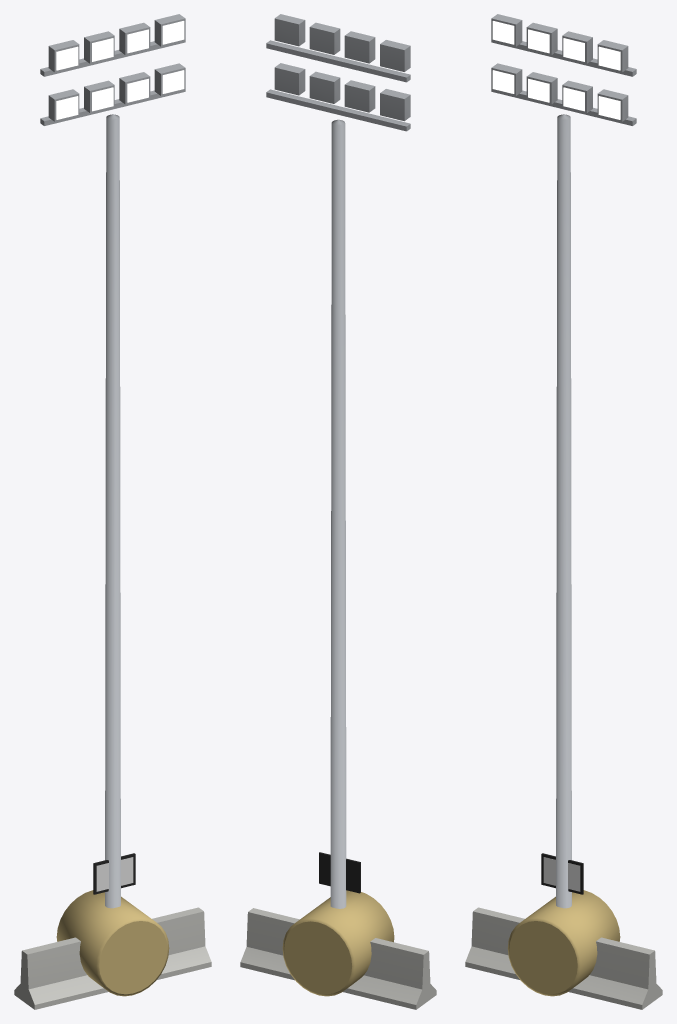
The model's file is props_kit.glb.
The picture shows the model from 3 angles, left to right: view 1: azimuth 30°, elevation 25°; view 2: azimuth 150°, elevation 25°; view 3: azimuth 330°, elevation 25°; orthographic projection.
Visible parts, largest first — view 1: Prop_light_tower, Prop_hay_bale, Prop_barrier, Prop_pit_board; view 2: Prop_light_tower, Prop_hay_bale, Prop_barrier, Prop_pit_board; view 3: Prop_light_tower, Prop_hay_bale, Prop_barrier, Prop_pit_board.
Boxes of the visible parts, left/top/right/bottom form: Prop_light_tower: left=40, top=14, right=185, bottom=908; Prop_hay_bale: left=56, top=890, right=169, bottom=996; Prop_barrier: left=14, top=907, right=211, bottom=1009; Prop_pit_board: left=93, top=853, right=135, bottom=894; Prop_light_tower: left=266, top=14, right=410, bottom=908; Prop_hay_bale: left=282, top=890, right=394, bottom=996; Prop_barrier: left=240, top=908, right=436, bottom=1009; Prop_pit_board: left=319, top=852, right=360, bottom=893; Prop_light_tower: left=491, top=14, right=636, bottom=908; Prop_hay_bale: left=507, top=890, right=620, bottom=996; Prop_barrier: left=465, top=907, right=662, bottom=1009; Prop_pit_board: left=541, top=853, right=583, bottom=894.
Bounding box in the file's own units: 3 × 15.43 × 1.2.
